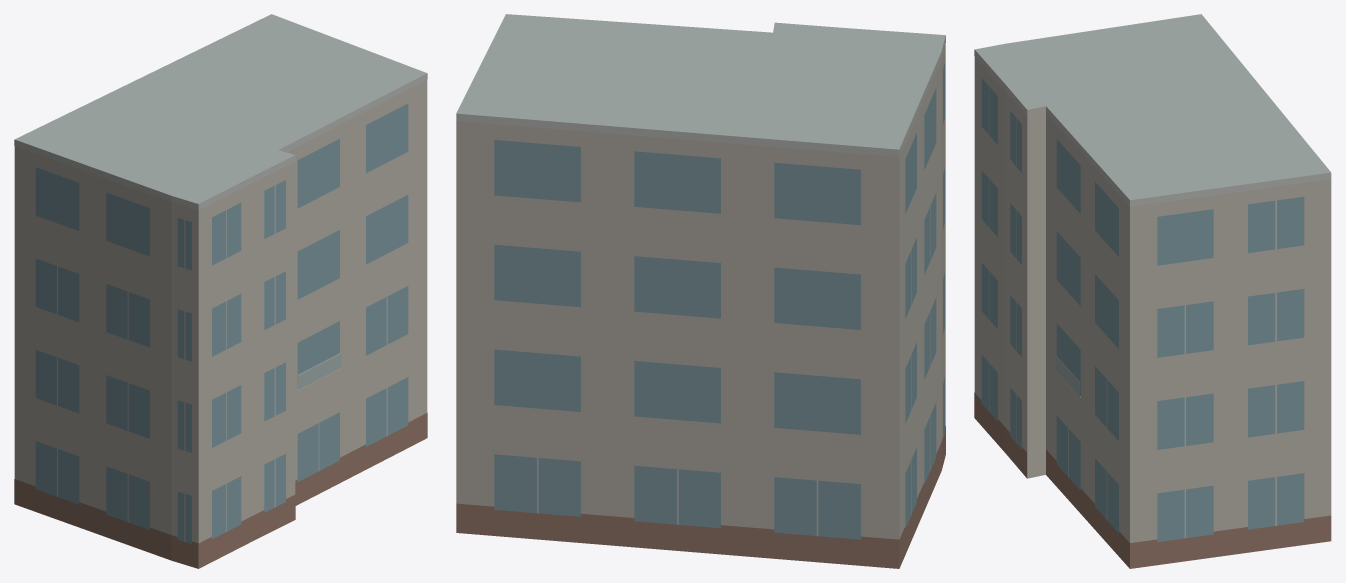
File: survey-upis-32985910.glb
The picture shows the model from 3 angles, left to right: view 1: azimuth 30°, elevation 25°; view 2: azimuth 150°, elevation 25°; view 3: azimuth 270°, elevation 25°; orthographic projection. The views are drawn at different scales.
Visible parts, largest first — view 1: survey-upis-32985910.tmp; view 2: survey-upis-32985910.tmp; view 3: survey-upis-32985910.tmp.
Boxes of the visible parts, <box> form: survey-upis-32985910.tmp: <box>14,14,427,568</box>; survey-upis-32985910.tmp: <box>456,14,945,568</box>; survey-upis-32985910.tmp: <box>974,14,1331,568</box>.
Bounding box in the file's own units: 14.85 × 13.7 × 12.02.
